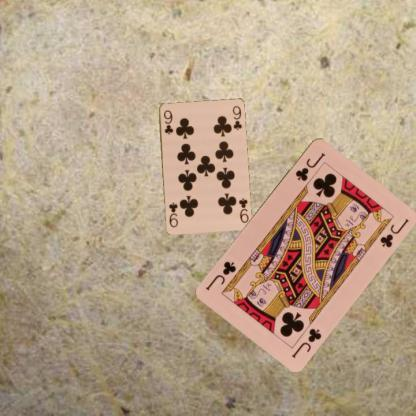9c: (236, 195, 250, 224), (162, 107, 174, 136)
Jc: (289, 326, 323, 360), (292, 149, 326, 182)
